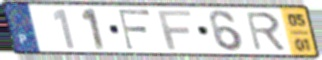1: (80, 7, 108, 52), (52, 8, 76, 50)
6: (207, 8, 246, 53)
F: (155, 9, 194, 52), (117, 9, 153, 52)
R: (243, 11, 288, 53)
